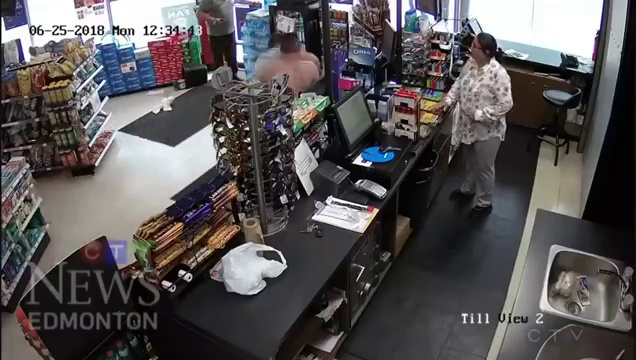face: (466, 37, 490, 58)
